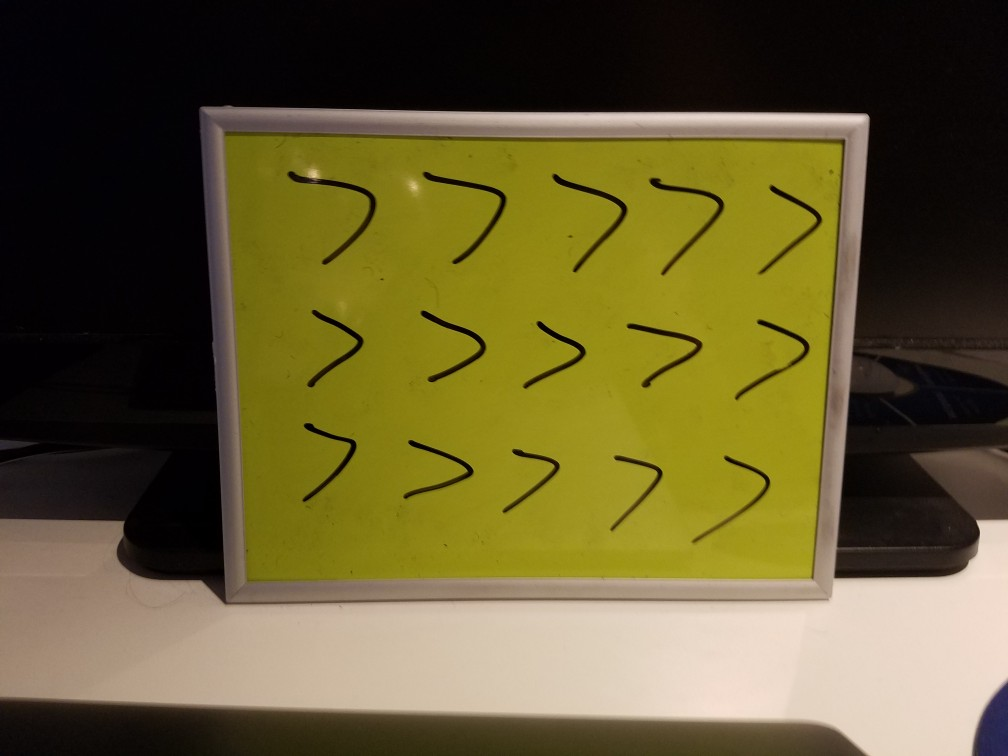>: (682, 429, 788, 550), (635, 140, 728, 266), (745, 158, 835, 286), (420, 138, 512, 262), (616, 293, 713, 407), (383, 413, 482, 521), (721, 300, 816, 411), (292, 147, 379, 266), (552, 151, 630, 277), (291, 289, 374, 404), (593, 430, 676, 545), (411, 283, 495, 395), (282, 406, 368, 515), (512, 301, 589, 407), (497, 424, 566, 533)
